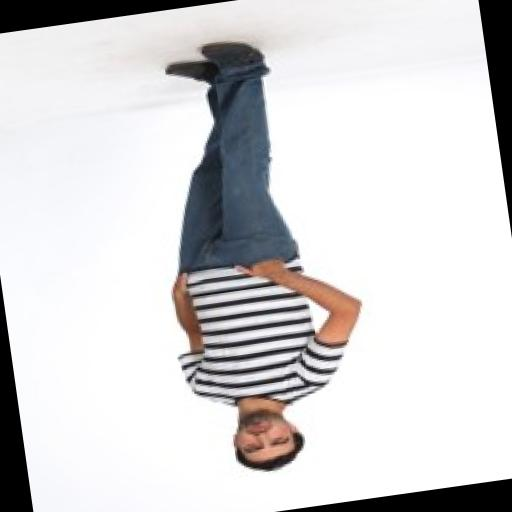human: (124, 28, 390, 500)
